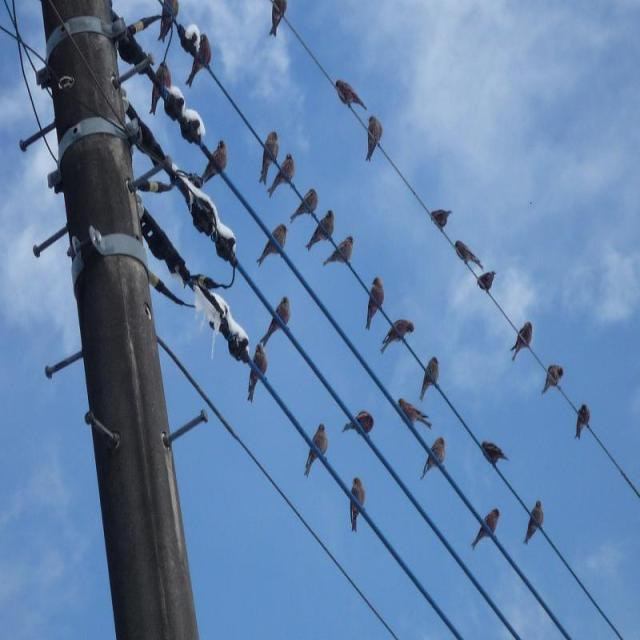bird: (187, 137, 231, 186), (183, 21, 214, 87), (253, 221, 291, 266), (380, 316, 418, 358), (244, 339, 268, 404), (470, 506, 504, 549), (262, 294, 294, 339), (398, 396, 436, 433), (334, 78, 369, 118), (306, 418, 330, 476), (419, 434, 449, 480), (148, 57, 170, 118), (268, 152, 297, 198), (340, 406, 377, 442), (307, 208, 337, 252), (365, 271, 387, 331), (510, 318, 538, 363), (476, 436, 508, 475), (154, 0, 180, 46), (326, 233, 358, 270), (419, 354, 444, 400), (258, 129, 279, 183), (291, 185, 319, 224), (352, 472, 370, 532), (365, 111, 385, 164), (525, 498, 548, 544), (541, 360, 567, 399), (268, 1, 294, 39), (574, 399, 594, 441), (474, 266, 498, 300), (451, 240, 482, 266), (428, 204, 453, 236)
